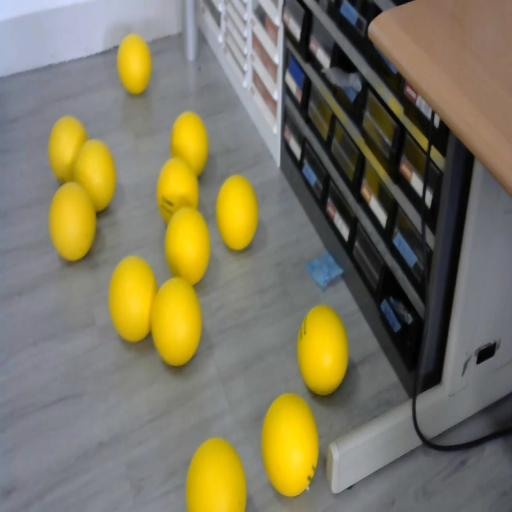FUEL: (260, 390, 320, 496), (296, 304, 349, 395), (150, 276, 202, 366), (107, 253, 158, 343), (185, 437, 246, 511), (49, 181, 97, 262), (164, 206, 211, 285), (215, 175, 258, 251), (48, 116, 88, 183), (170, 111, 210, 176), (117, 34, 151, 94)
